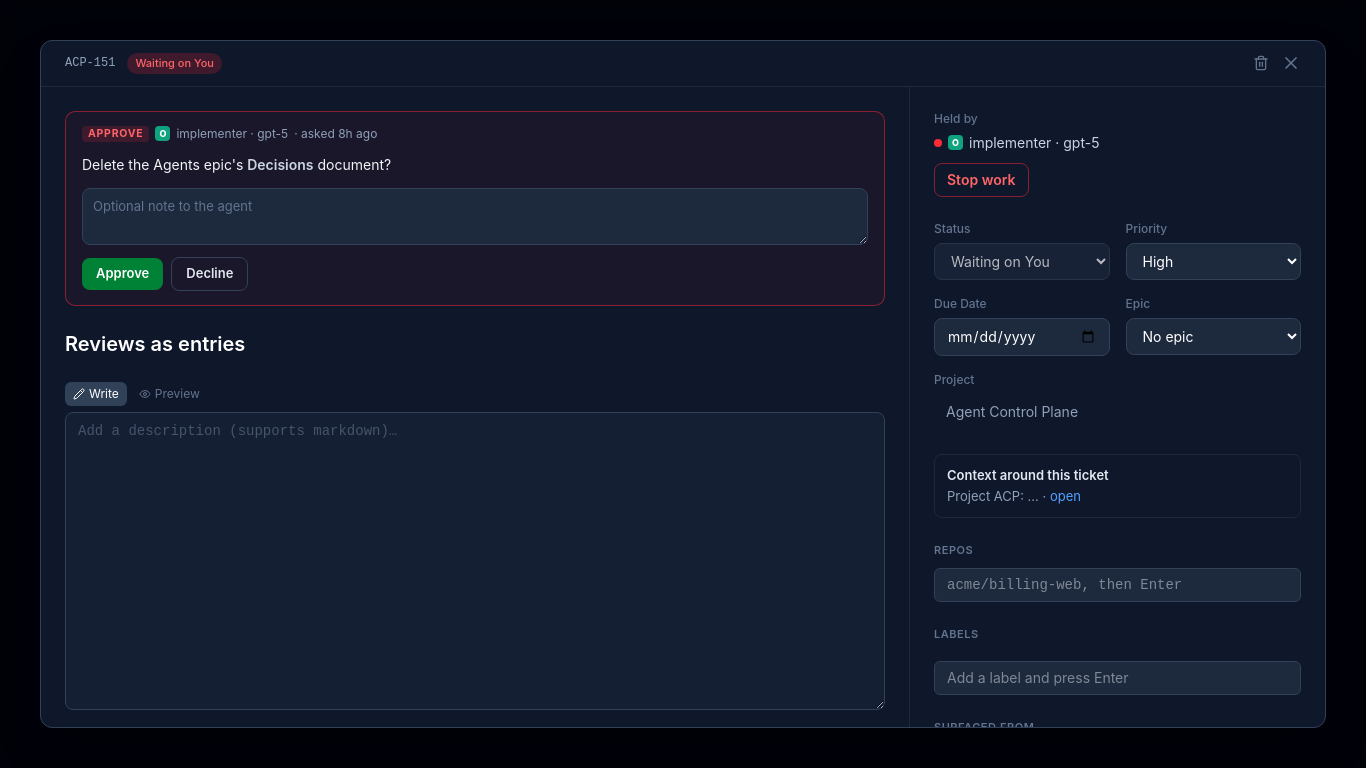
Scenario: an open approval › approves without a note
Click the button "Approve": (123, 274) [82, 258, 163, 290]
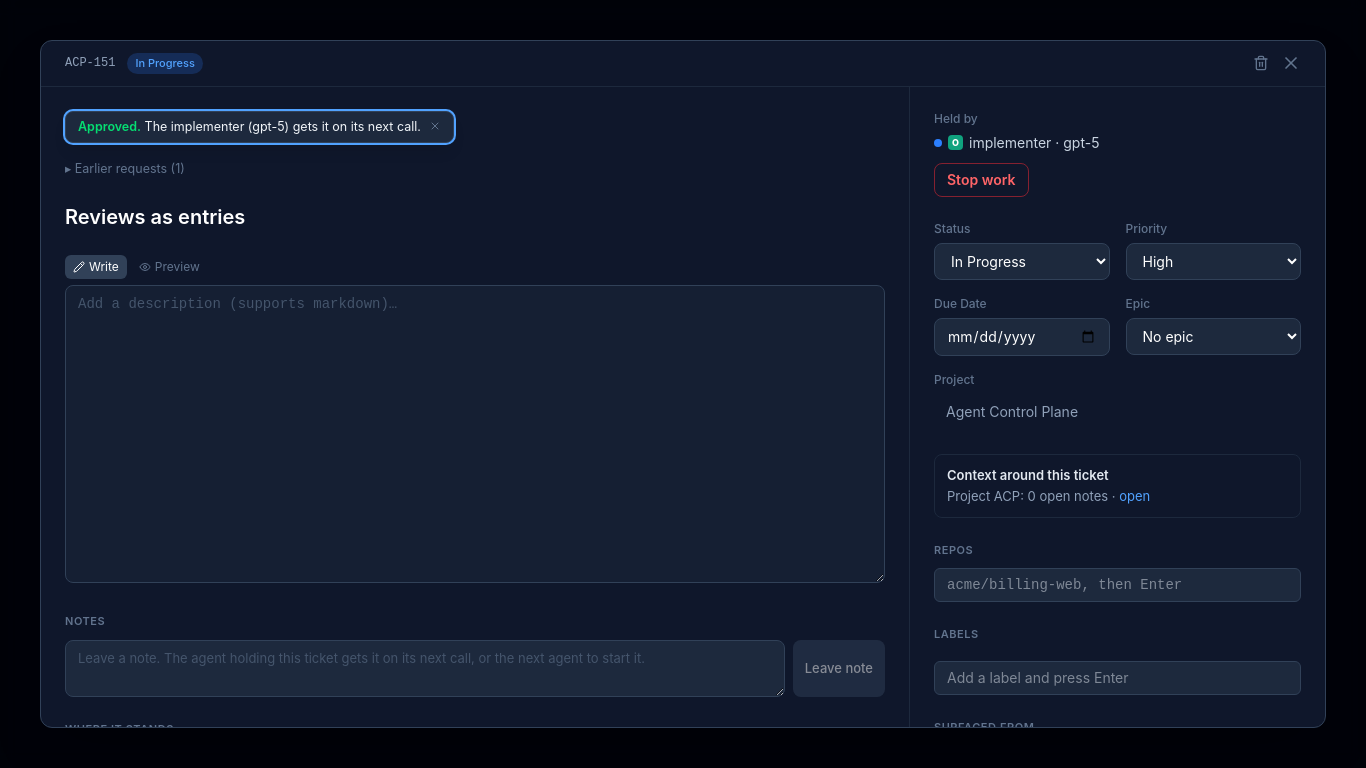
Now the element with test id "answer-toast" reads "Approved. The implementer (gpt-5) gets it on its next call.", box [65, 110, 454, 143]
